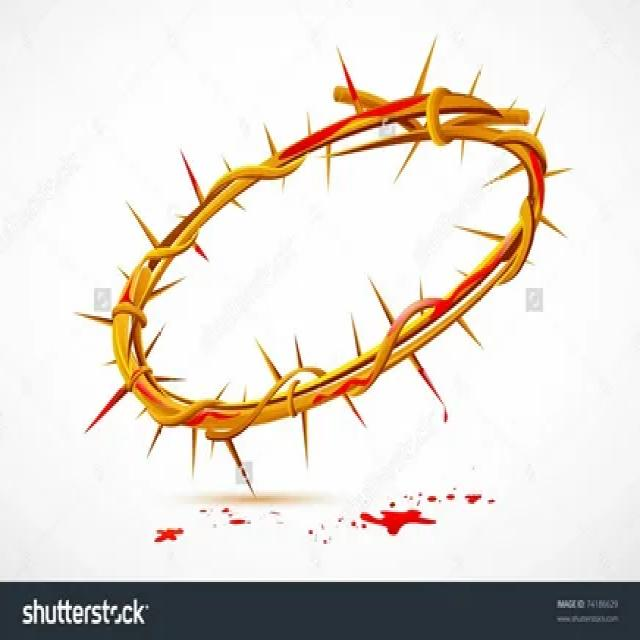crown: (96, 64, 565, 450)
